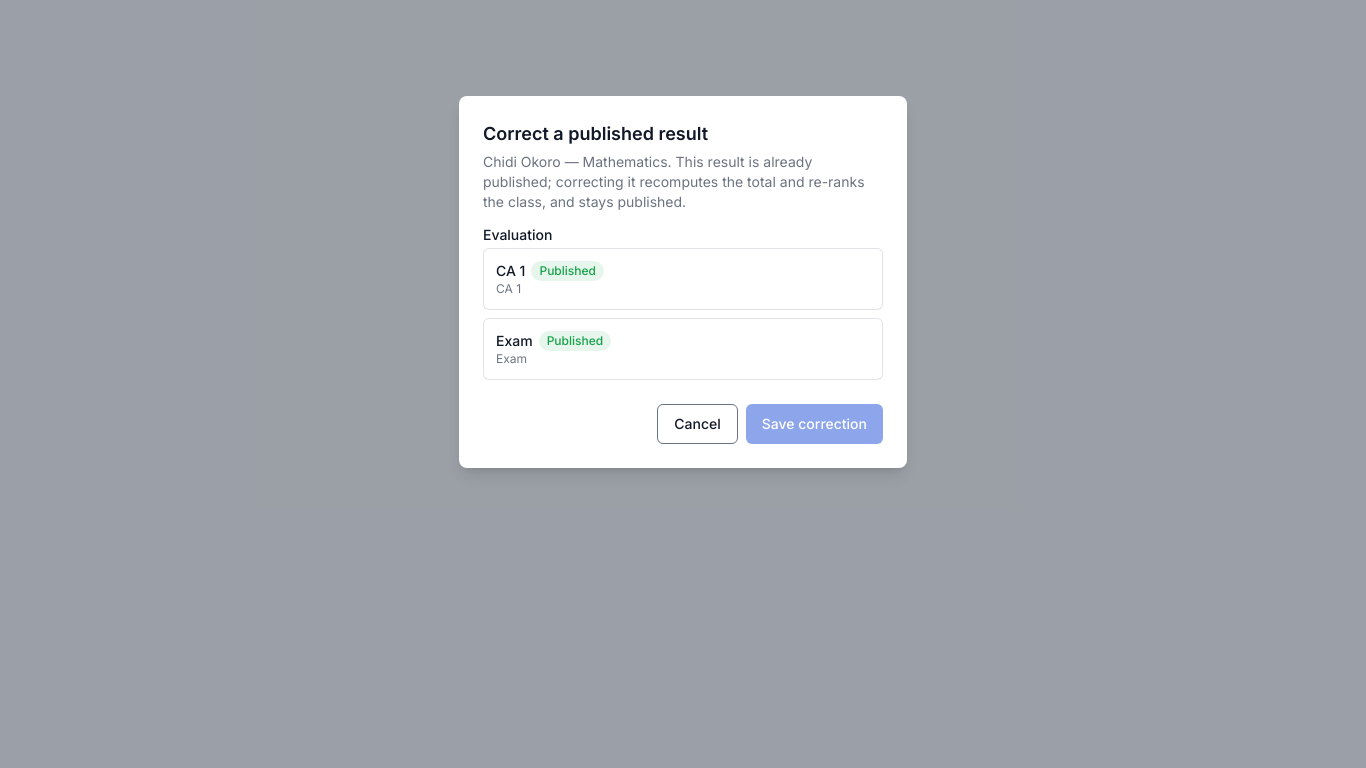
MarkAbsentDialog › prefills as absent (checkbox checked, score field disabled) when the current row is already absent
The width and height of the screenshot is (1366, 768).
Click the button "Exam Published Exam": [514, 340] box [483,318,883,380]
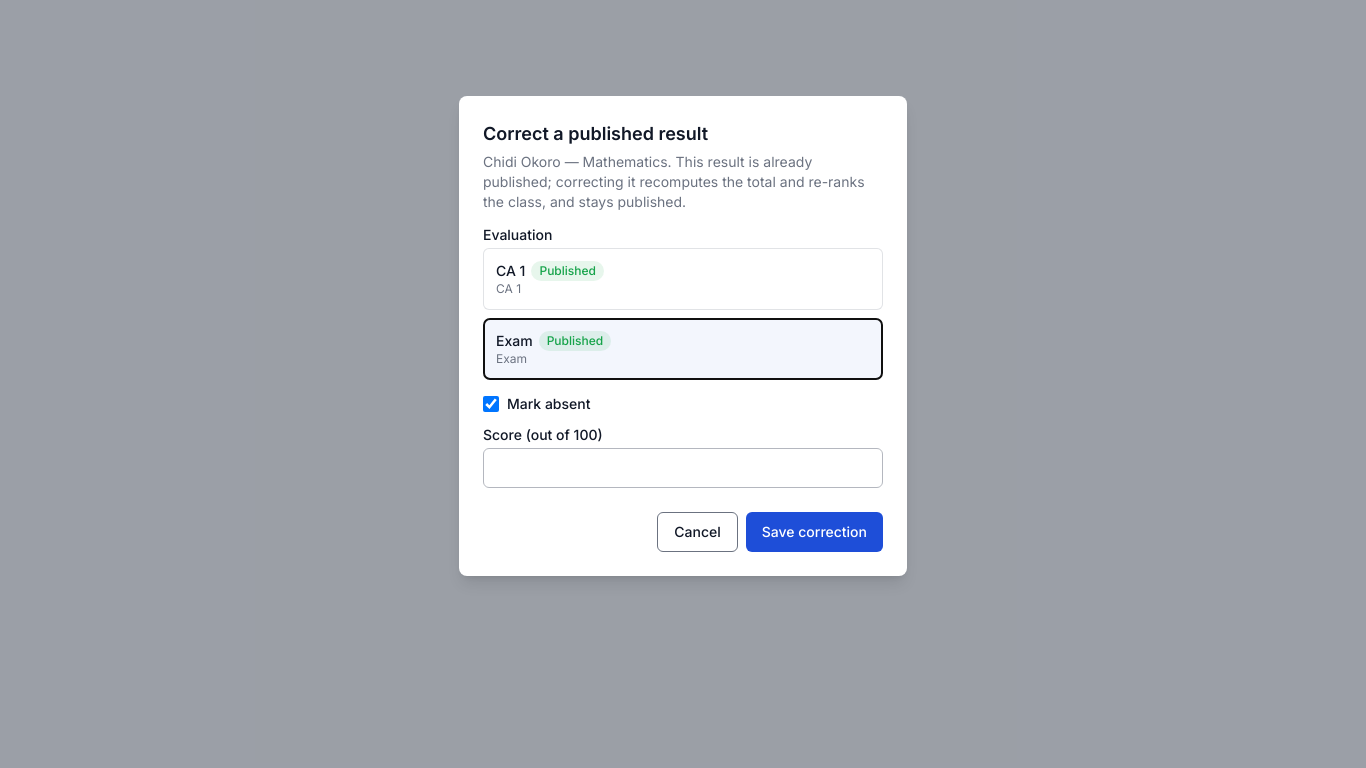
Check: the checkbox labelled "Mark absent" is checked, box [483,396,499,412]
Check: the field labelled "Score (out of 100)" is disabled, box [483,448,883,488]
